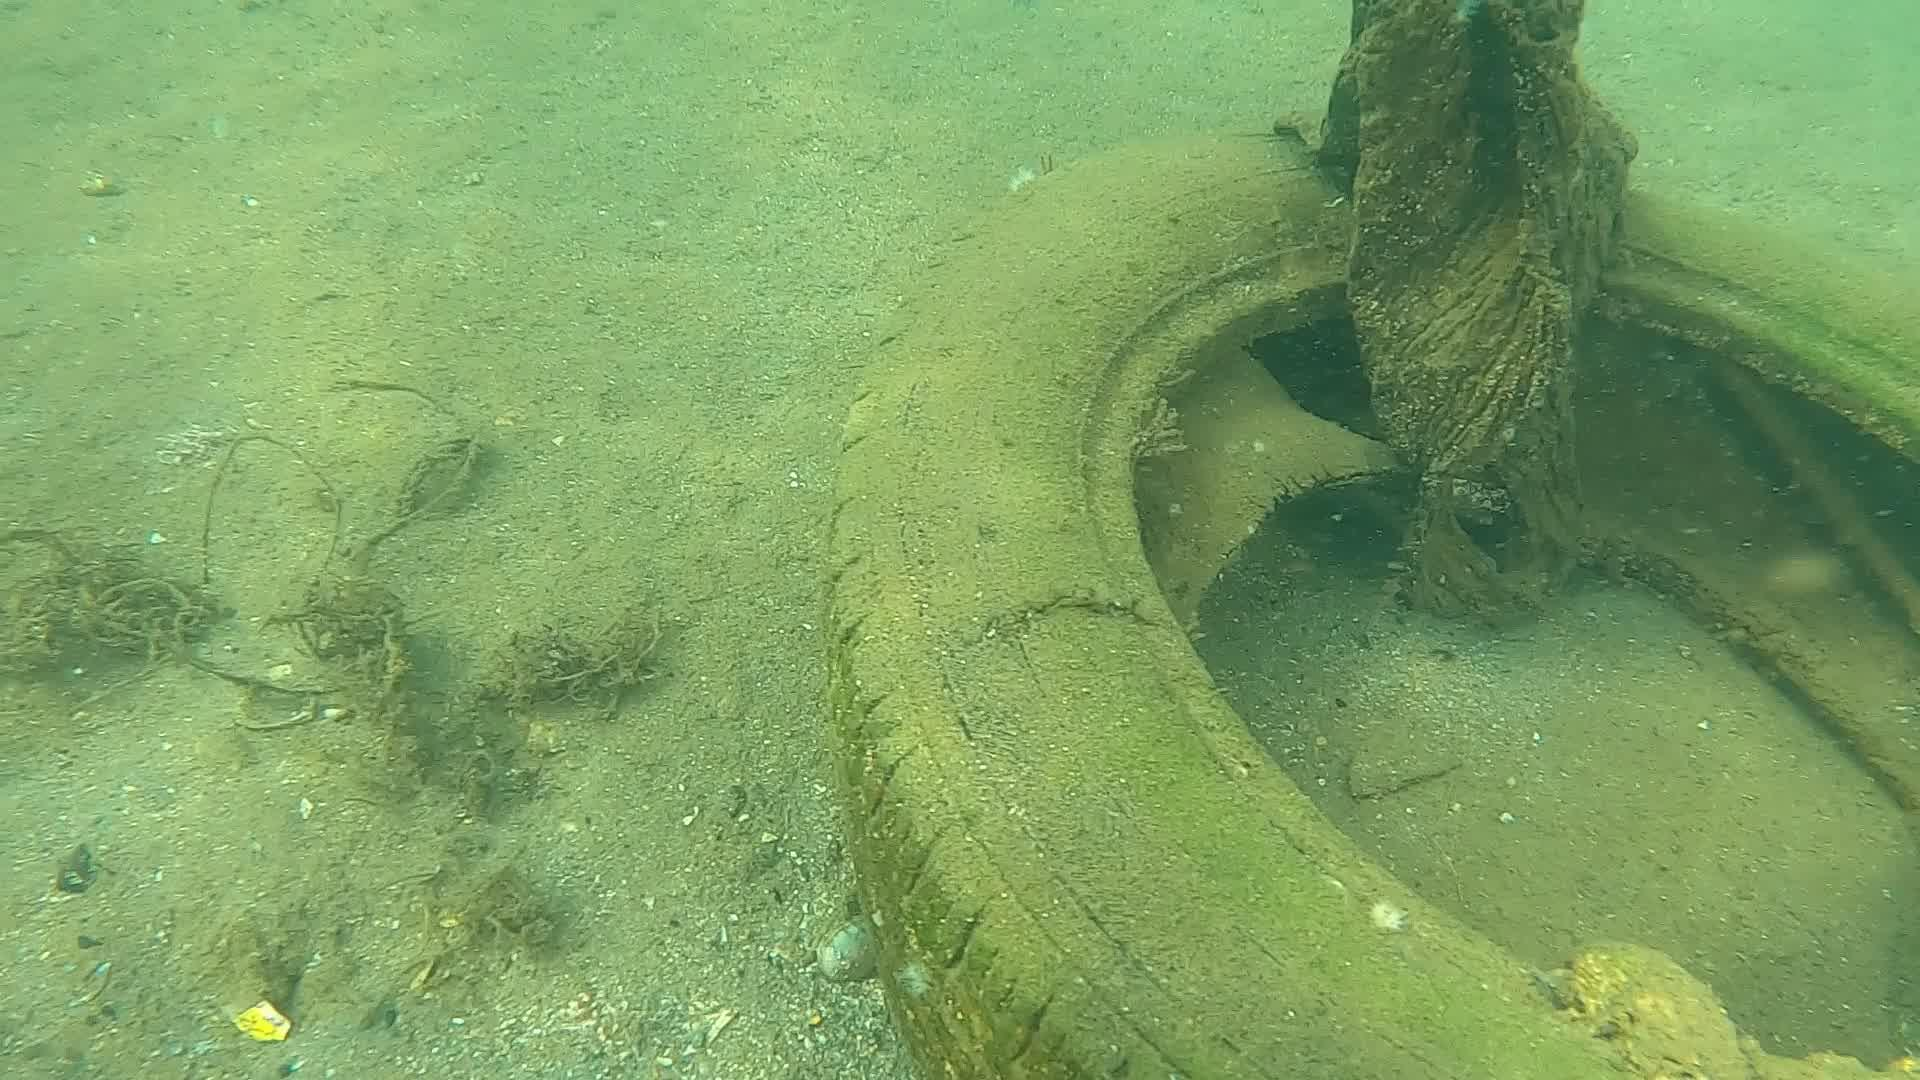tire: (814, 127, 1920, 1080)
